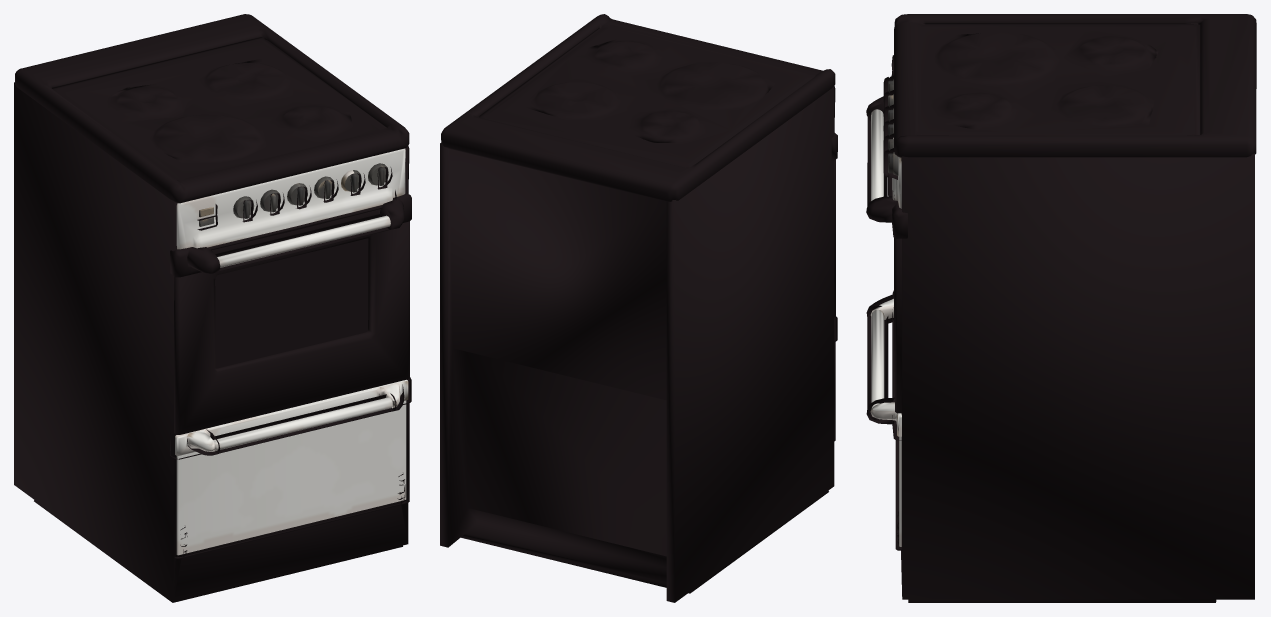
The model's file is SM_Int_Stove.fbx.
The picture shows the model from 3 angles, left to right: view 1: azimuth 30°, elevation 25°; view 2: azimuth 150°, elevation 25°; view 3: azimuth 270°, elevation 25°; orthographic projection. The views are drawn at different scales.
Parts seen in each view (by area): view 1: SM_Int_Stove; view 2: SM_Int_Stove; view 3: SM_Int_Stove.
Part boxes in pixels (x1,y1,x2,y2): SM_Int_Stove: (14,14,411,602); SM_Int_Stove: (440,14,837,602); SM_Int_Stove: (866,14,1256,602).
Size of what is drawn, in the model's own units: 0.5425 by 0.9126 by 0.6941.
